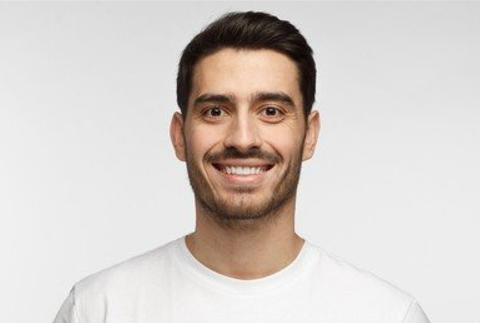Sober: (193, 53, 301, 202)
